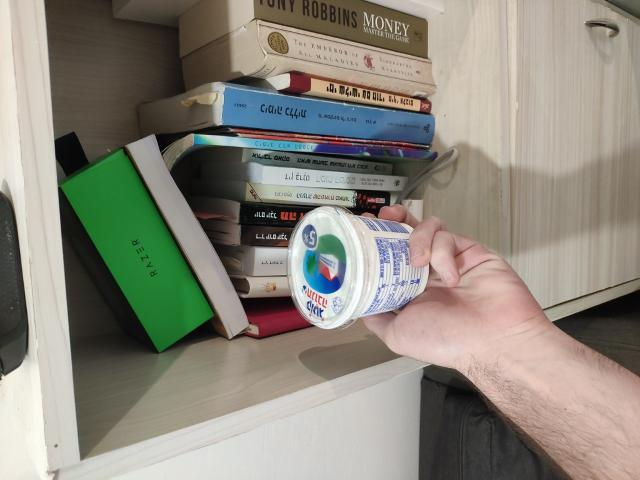cotage: (282, 204, 451, 322)
